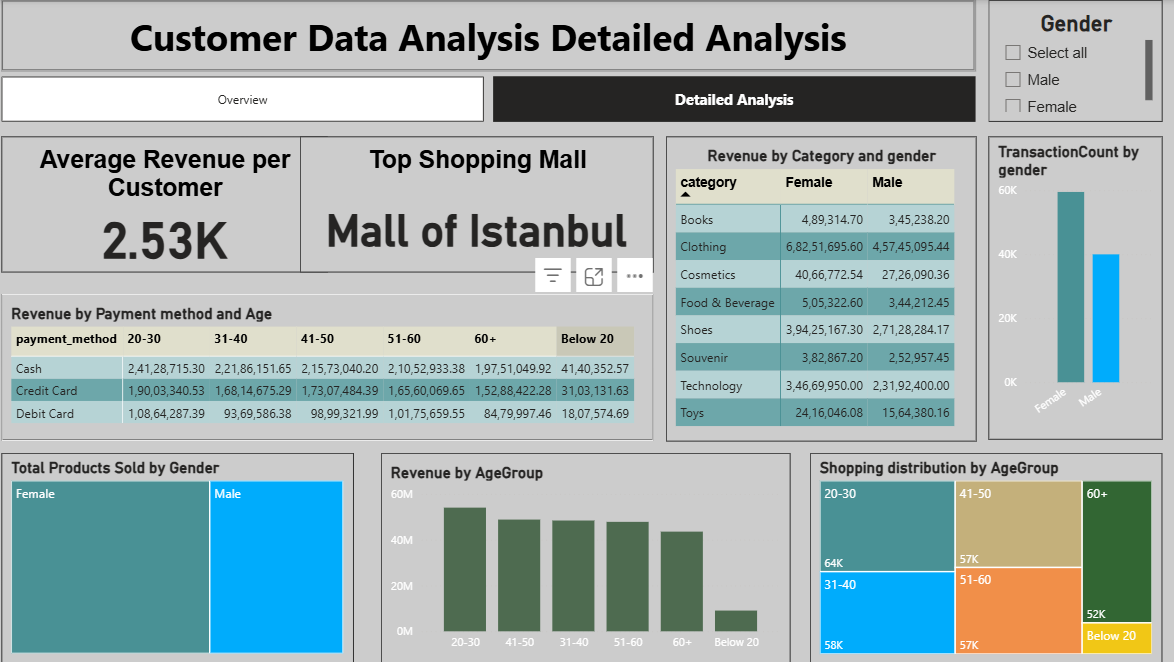

This screenshot's page, from the dashboard's own definition file:
{"tool":"powerbi","page":{"name":"Detailed Analysis","canvas":[1280,720],"ordinal":1},"visuals":[{"type":"card","title":"Average Revenue per Customer","fields":{"Values":["Project_customer_segmentation.Avg_Revenue_Per_Customer"]},"box":[5.7,147.4,353.4,147.4],"z":0},{"type":"card","title":"Top Shopping Mall","fields":{"Values":["Project_customer_segmentation.Top_Shopping_Mall"]},"box":[328.8,147.4,383.6,147.4],"z":1000},{"type":"shape","title":"Customer Data Analysis","box":[5.7,0,1056.4,77.5],"z":2000},{"type":"slicer","title":"Gender","fields":{"Values":["Project_customer_segmentation.gender"]},"box":[1075.3,0,189,132.3],"z":3000},{"type":"pivotTable","title":"Revenue by Payment method and Age","fields":{"Rows":["Project_customer_segmentation.payment_method"],"Columns":["Project_customer_segmentation.AgeGroup"],"Values":["Project_customer_segmentation.Revenue"]},"box":[5.7,319.4,706.8,158.7],"z":4000},{"type":"treemap","title":"Total Products Sold by Gender","fields":{"Group":["Project_customer_segmentation.gender"],"Values":["Project_customer_segmentation.Products_Sold"]},"box":[5.7,491.3,381.7,228.7],"z":5000},{"type":"columnChart","fields":{"Category":["Project_customer_segmentation.AgeGroup"],"Y":["Project_customer_segmentation.Revenue"]},"box":[416.4,491.2,444,229.3],"z":6000},{"type":"pivotTable","title":"Revenue by Category and gender","fields":{"Rows":["Project_customer_segmentation.category"],"Columns":["Project_customer_segmentation.gender"],"Values":["Project_customer_segmentation.Revenue"]},"box":[725.7,147.4,336.4,330.7],"z":7000},{"type":"columnChart","fields":{"Category":["Project_customer_segmentation.gender"],"Y":["Project_customer_segmentation.TransactionCount"]},"box":[1075.3,147.4,189,328.8],"z":8000},{"type":"pageNavigator","box":[5.7,83.2,1056.4,49.1],"z":9000},{"type":"treemap","title":"Shopping distribution by AgeGroup","fields":{"Group":["Project_customer_segmentation.AgeGroup"],"Values":["Project_customer_segmentation.Products_Sold"]},"box":[881.6,491.2,382.2,229.3],"z":10000}]}

Visuals, with their boxes in screenshot pixels (x1, y1, x2, y2), scaled from the page's 1280x720 canvas onto the 1174x662 screenshot:
"Average Revenue per Customer" card: [x1=5, y1=136, x2=329, y2=271]
"Top Shopping Mall" card: [x1=302, y1=136, x2=653, y2=271]
"Customer Data Analysis" shape: [x1=5, y1=0, x2=974, y2=71]
"Gender" slicer: [x1=986, y1=0, x2=1160, y2=122]
"Revenue by Payment method and Age" pivotTable: [x1=5, y1=294, x2=653, y2=440]
"Total Products Sold by Gender" treemap: [x1=5, y1=452, x2=355, y2=661]
columnChart - Project_customer_segmentation.AgeGroup x Project_customer_segmentation.Revenue: [x1=382, y1=452, x2=789, y2=661]
"Revenue by Category and gender" pivotTable: [x1=666, y1=136, x2=974, y2=440]
columnChart - Project_customer_segmentation.gender x Project_customer_segmentation.TransactionCount: [x1=986, y1=136, x2=1160, y2=438]
pageNavigator: [x1=5, y1=76, x2=974, y2=122]
"Shopping distribution by AgeGroup" treemap: [x1=809, y1=452, x2=1159, y2=661]
